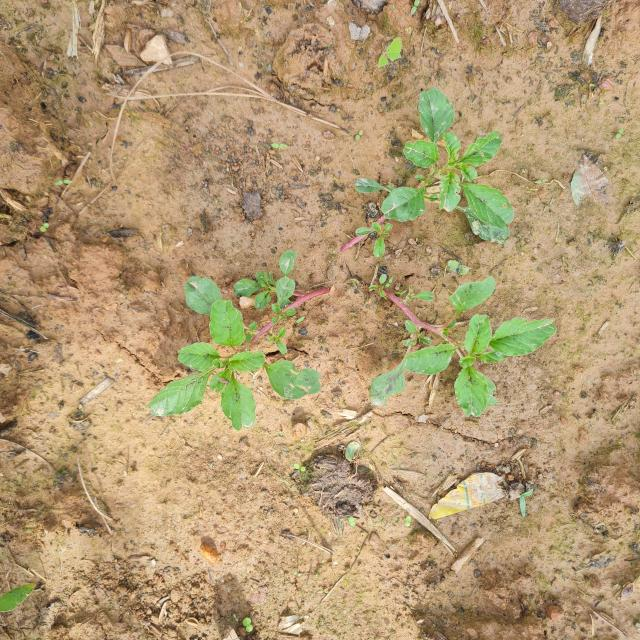weed: (353, 267, 561, 418), (163, 254, 329, 436), (363, 82, 533, 244)
